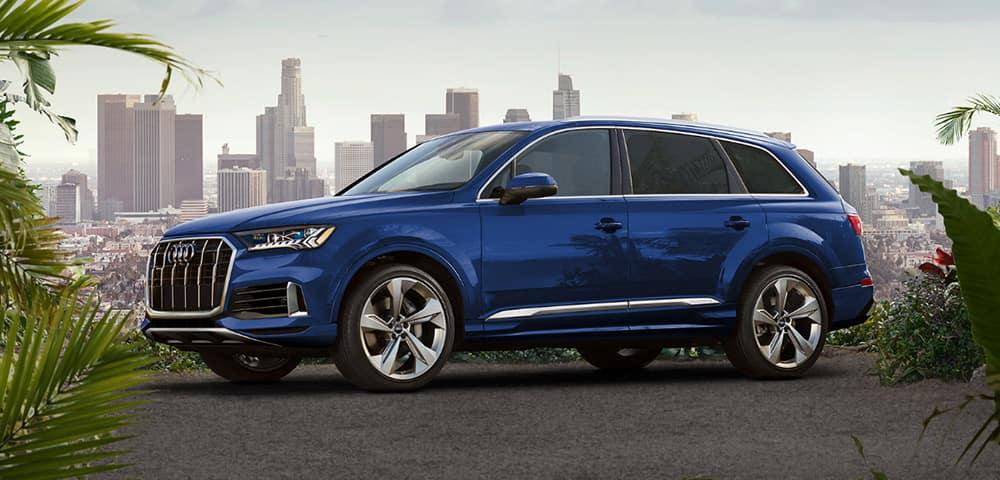car: (136, 112, 876, 399)
